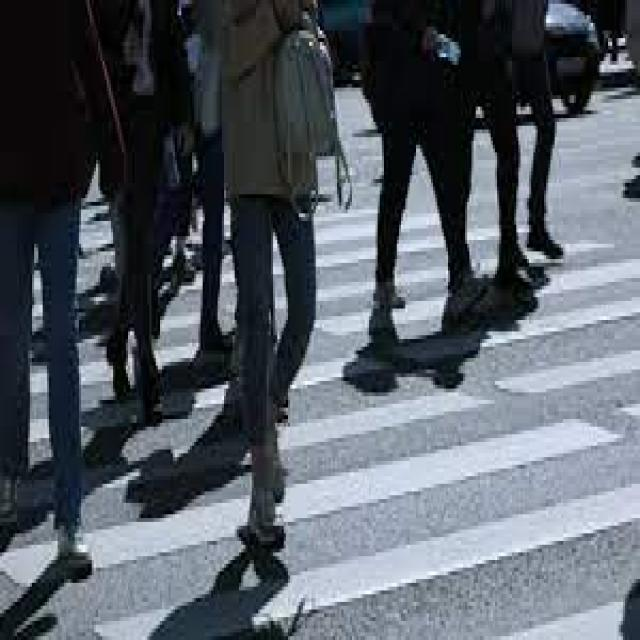Pedestrians: (218, 4, 332, 556), (2, 4, 96, 575), (369, 4, 489, 354)
